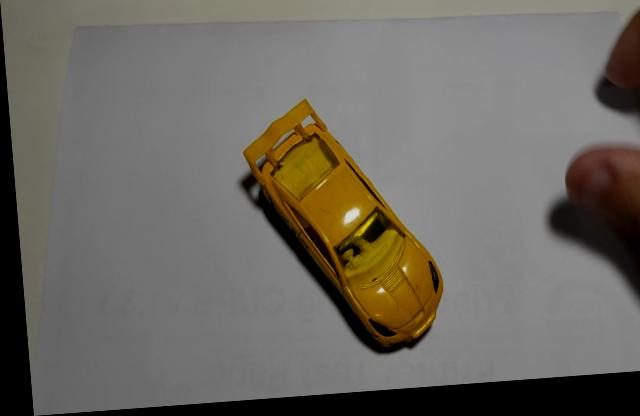07_RHLTURBO: (241, 106, 440, 361)
